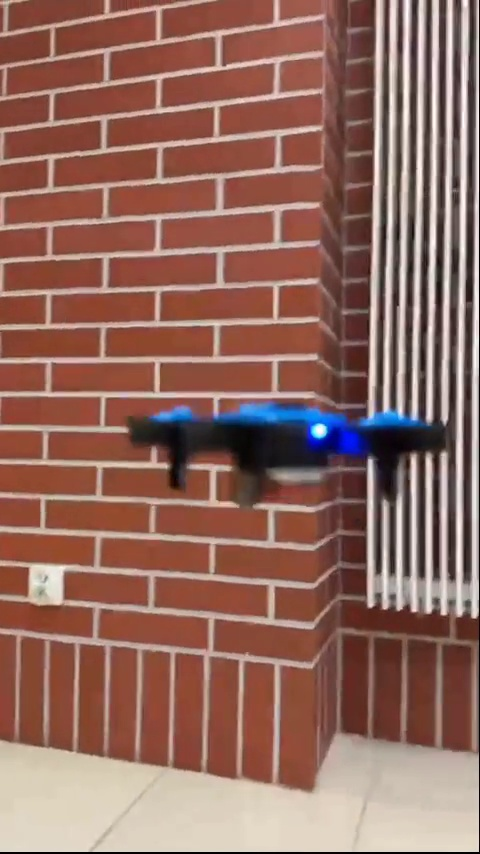drone: (120, 390, 445, 499)
